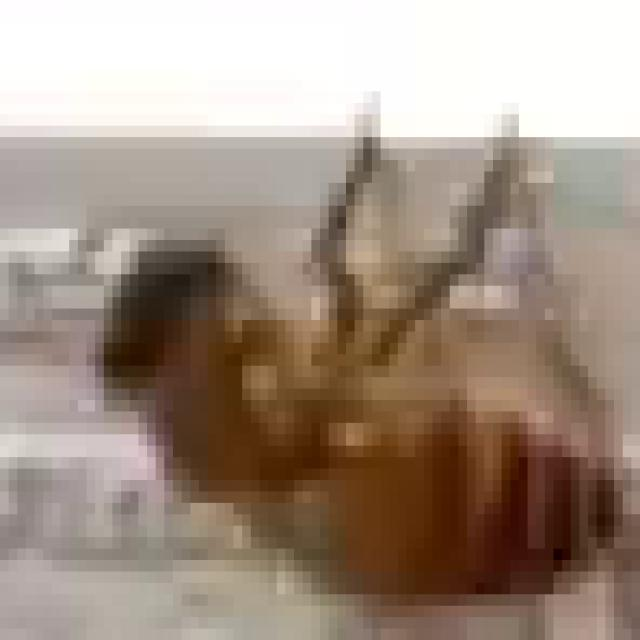honeybee: (80, 165, 632, 628)
